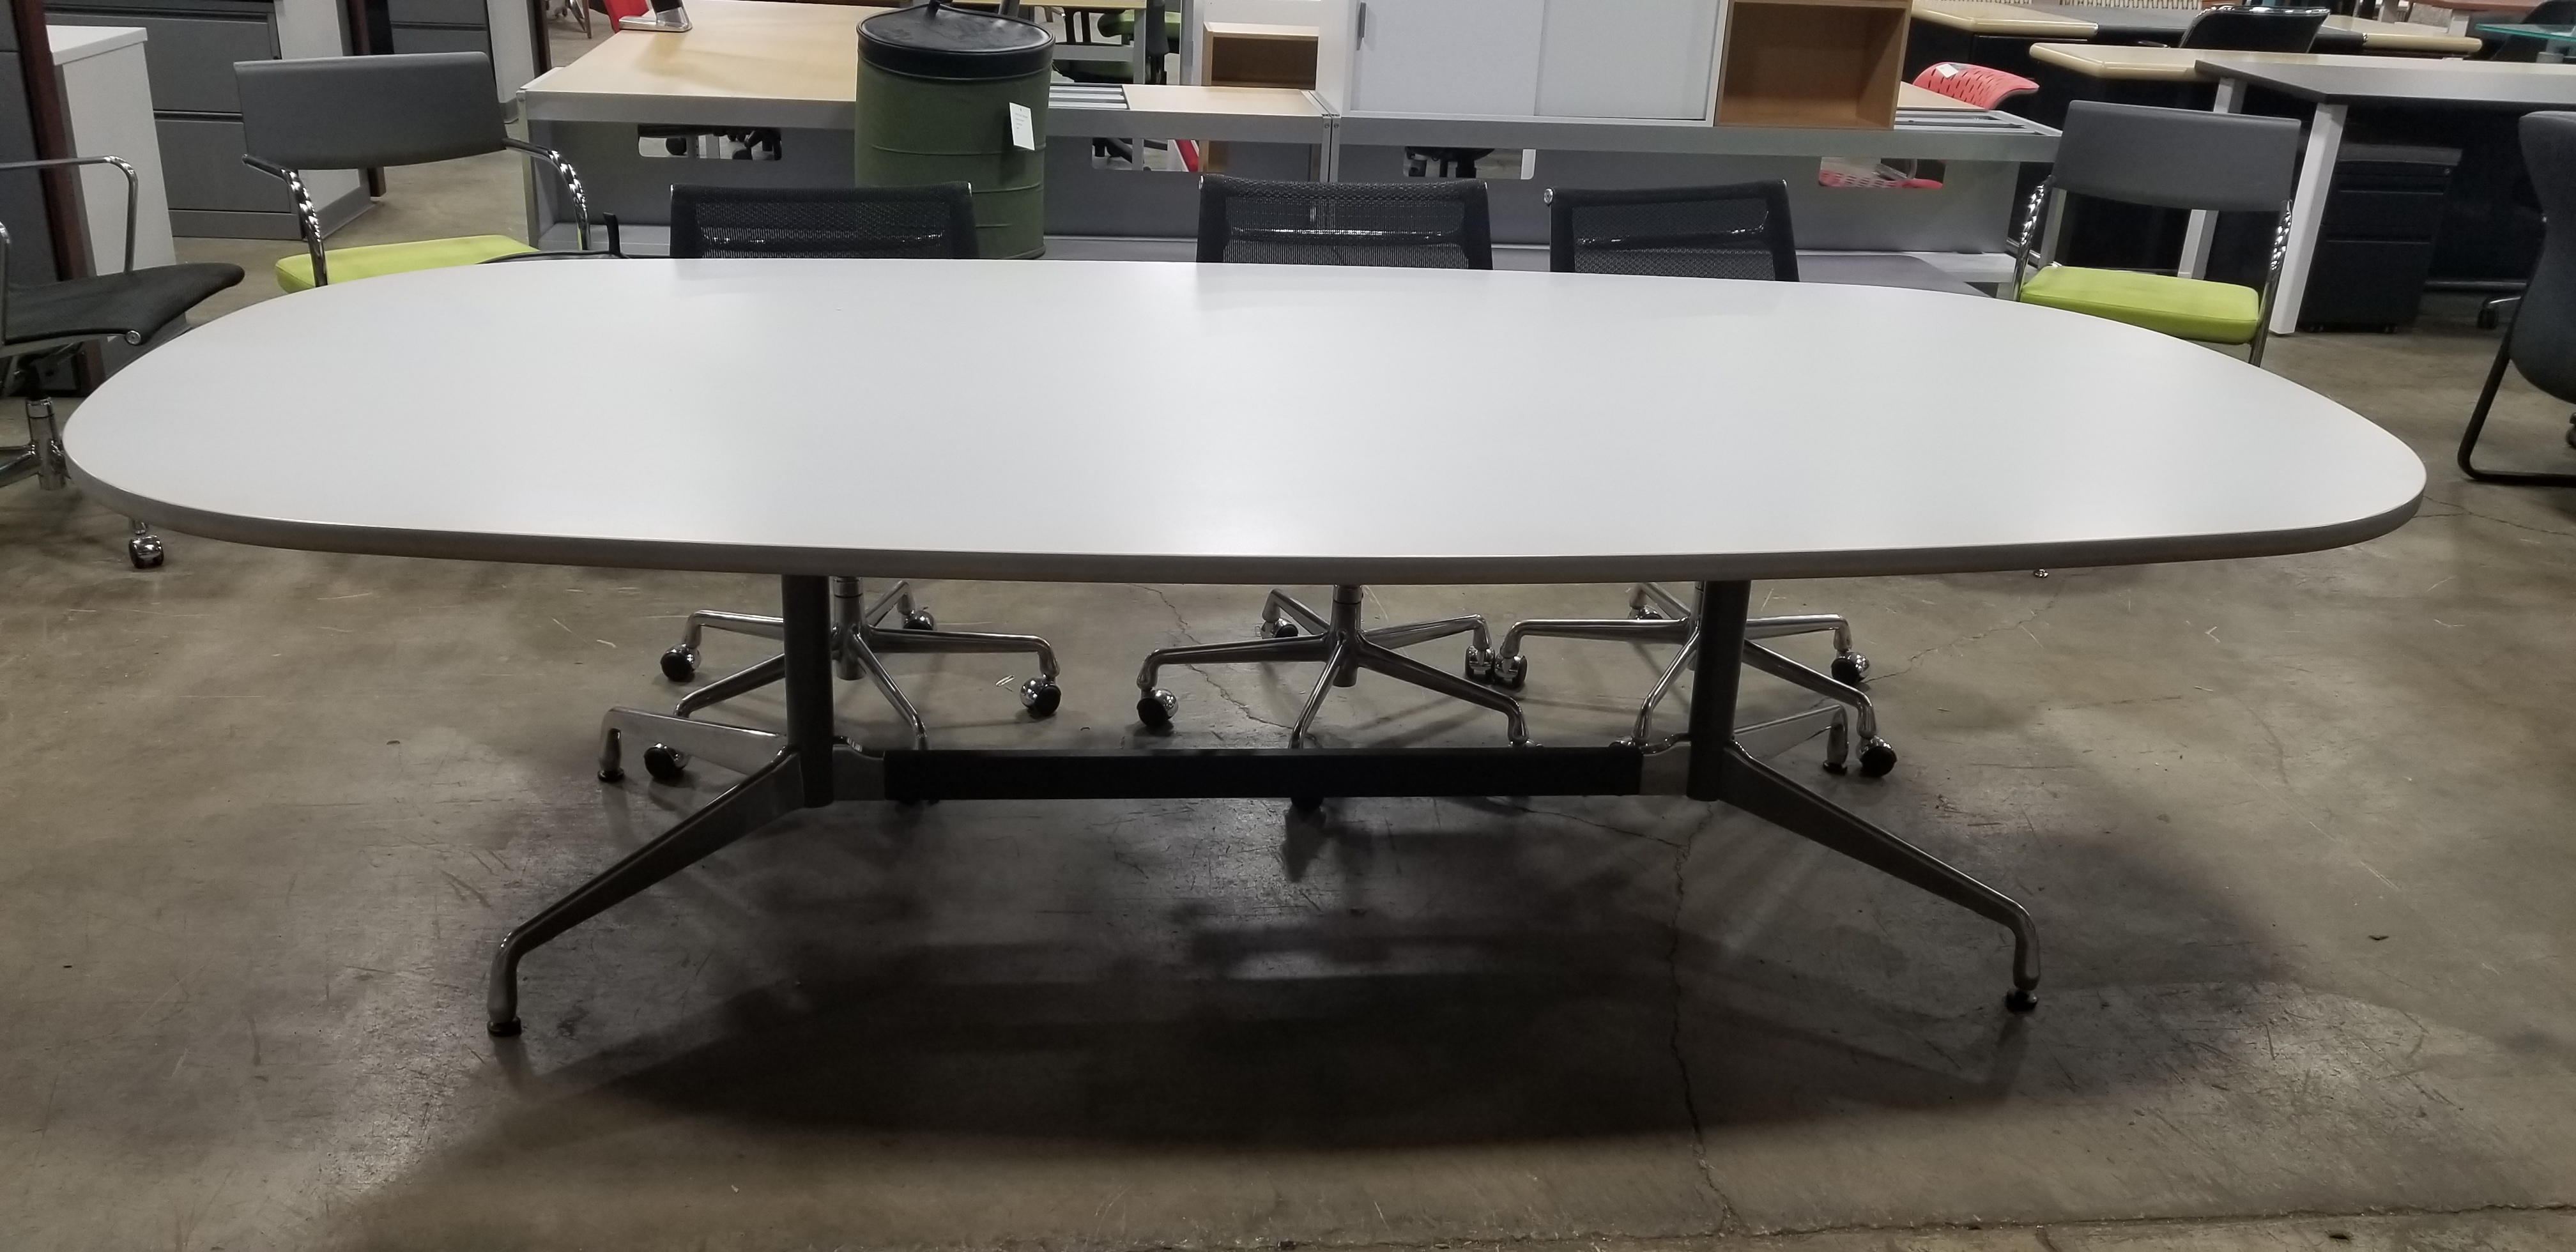conference_table: (63, 265, 2427, 1047), (2173, 54, 2576, 341)
